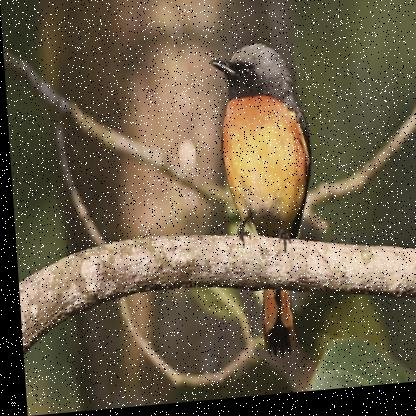Burung: (207, 42, 320, 365)
